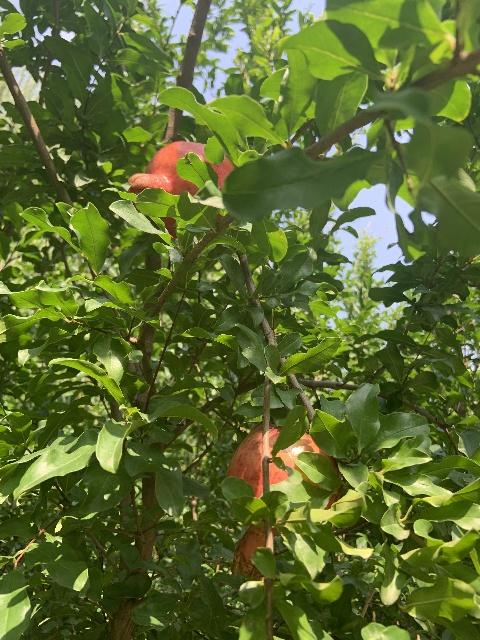ripe: (225, 421, 342, 582), (126, 140, 235, 240)
